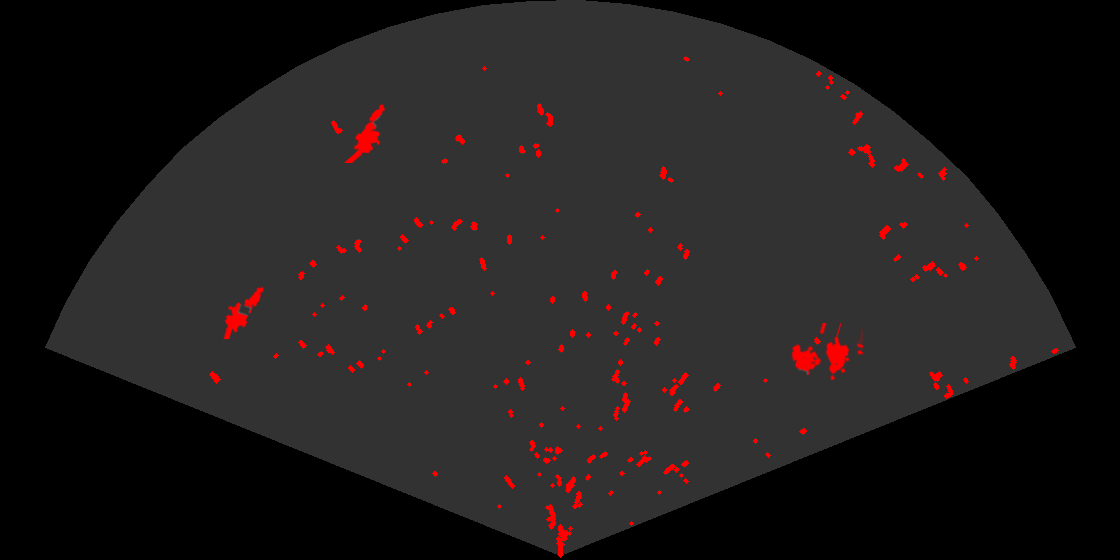cage: (790, 323, 863, 382)
frogman: (222, 277, 266, 339), (343, 102, 387, 163)
